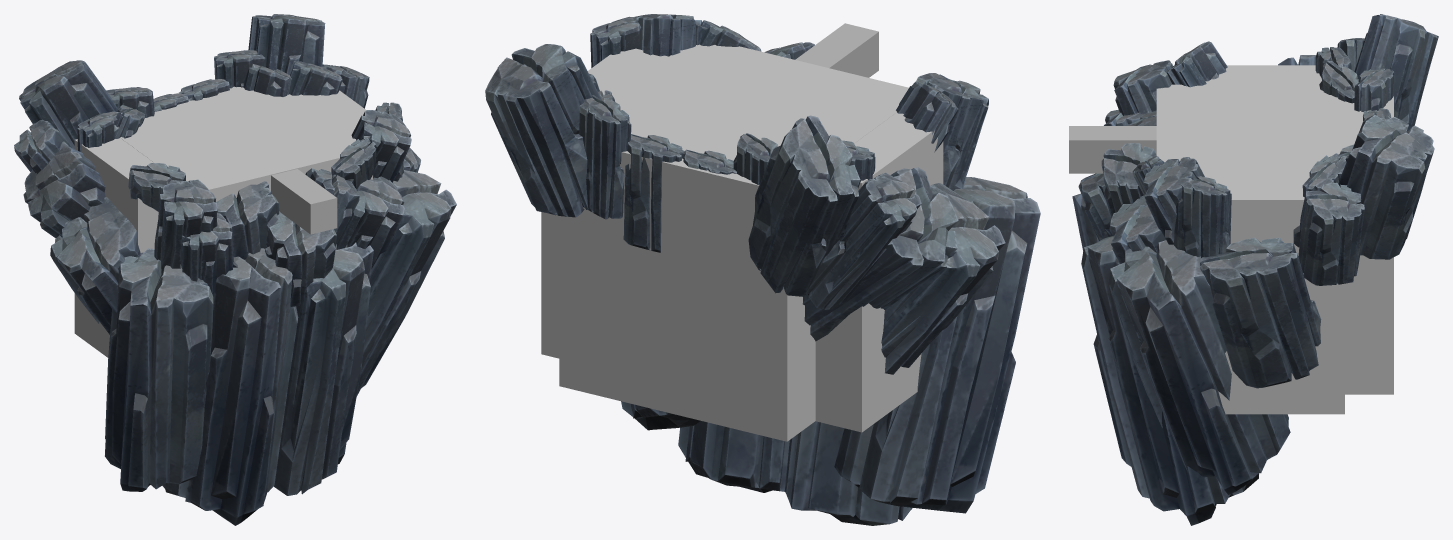
The model's file is Lv2Ground.fbx.
3 views of the same model, side by side, from view 1: azimuth 30°, elevation 25°; view 2: azimuth 150°, elevation 25°; view 3: azimuth 270°, elevation 25° (orthographic). The views are drawn at different scales.
Parts seen in each view (by area): view 1: BigStone_004__24_, Cube__2_, Cube__1_; view 2: BigStone_004__24_, Cube__2_, Cube__1_; view 3: BigStone_004__24_, Cube__2_, Cube__1_.
Part boxes in pixels (x1,y1,x2,y2): BigStone_004__24_: [14, 14, 456, 525]; Cube__2_: [74, 86, 372, 357]; Cube__1_: [271, 169, 337, 234]; BigStone_004__24_: [485, 14, 1040, 525]; Cube__2_: [541, 44, 943, 441]; Cube__1_: [795, 23, 878, 77]; BigStone_004__24_: [1072, 14, 1438, 525]; Cube__2_: [1156, 65, 1393, 414]; Cube__1_: [1069, 126, 1156, 173].
Size of the model in its own units: 6.9 by 7.3 by 5.61.
